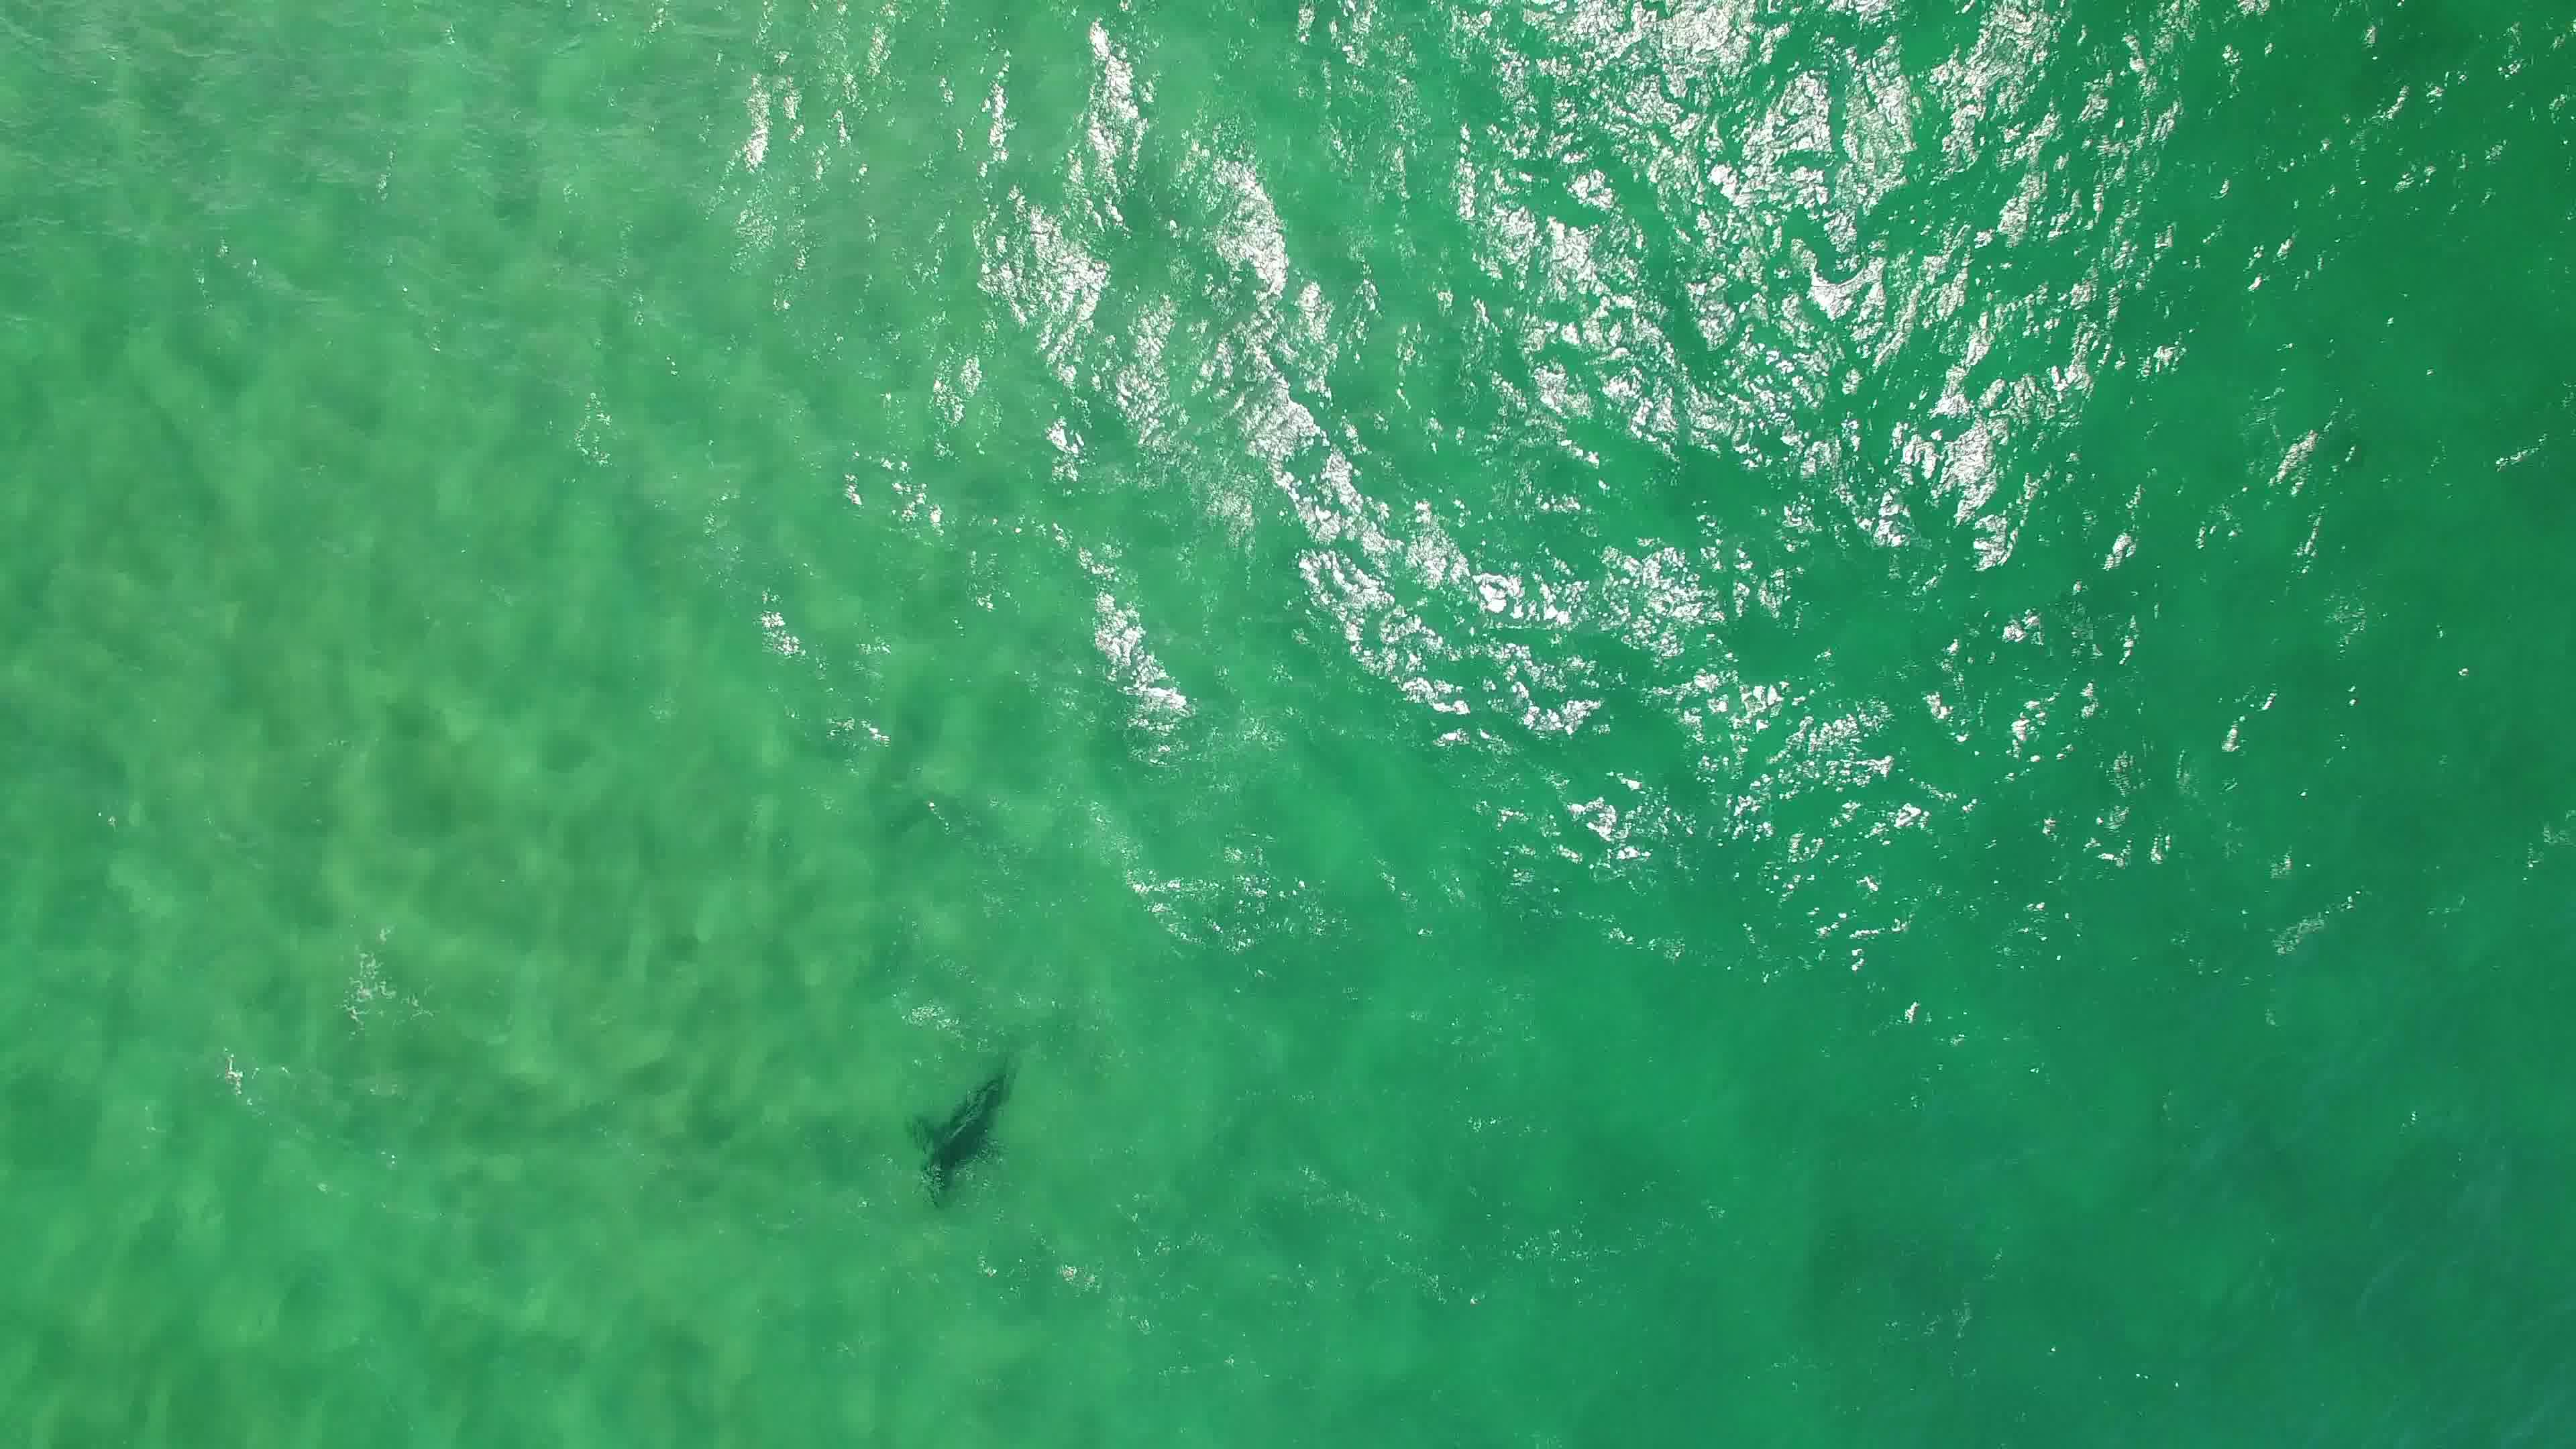shark: (897, 1058, 1026, 1214)
